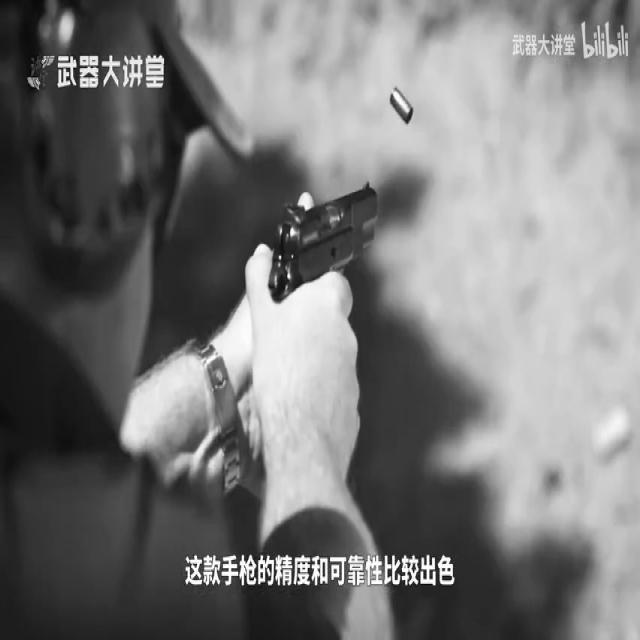Hand-Gun: (263, 175, 381, 317)
